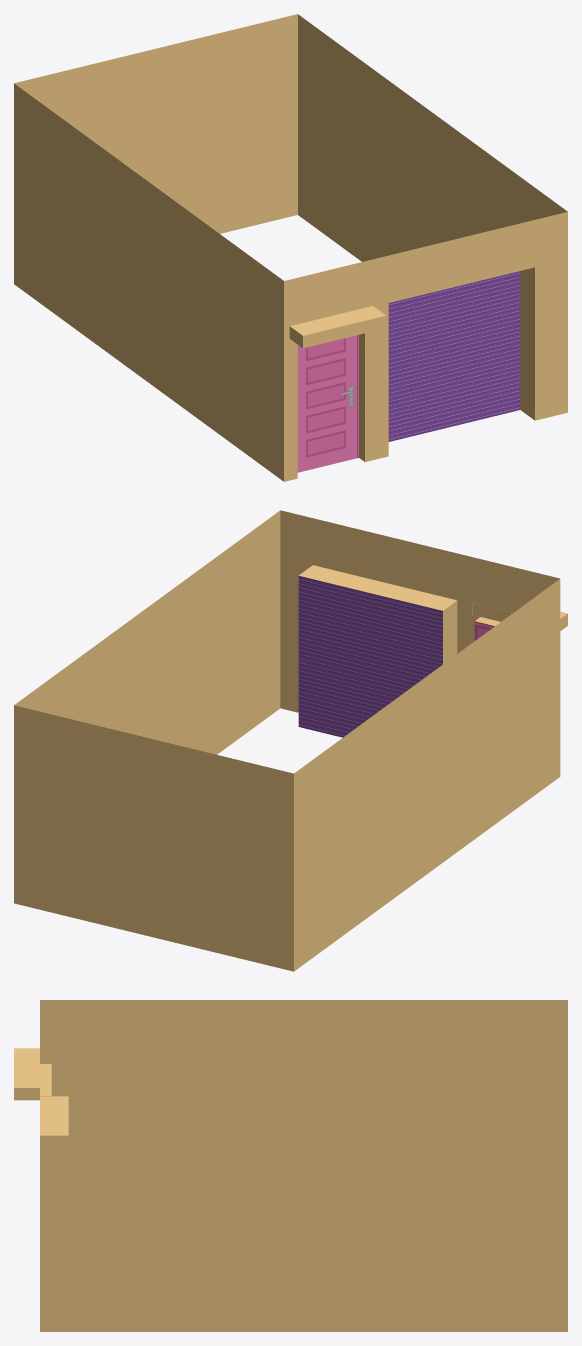
Rendered from Town_Bld-sm_Base-Garage.FBX.
The picture shows the model from 3 angles, top to bottom: view 1: azimuth 30°, elevation 25°; view 2: azimuth 150°, elevation 25°; view 3: azimuth 270°, elevation 25°; orthographic projection. The views are drawn at different scales.
Visible parts, largest first — view 1: Town_Bld-sm_Base-Garage; view 2: Town_Bld-sm_Base-Garage; view 3: Town_Bld-sm_Base-Garage.
Part boxes in pixels (bbox=[...]): Town_Bld-sm_Base-Garage: bbox=[14, 14, 567, 481]; Town_Bld-sm_Base-Garage: bbox=[14, 510, 567, 971]; Town_Bld-sm_Base-Garage: bbox=[14, 1000, 567, 1331].
Bounding box in the file's own units: 301 × 204 × 521.
